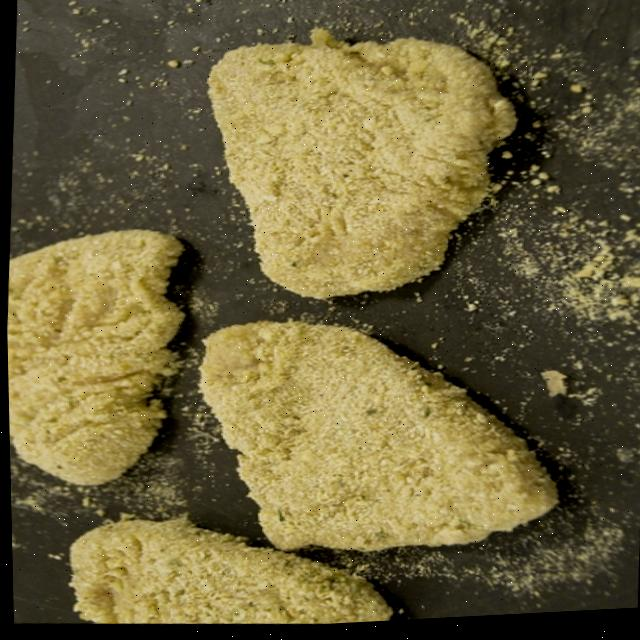鸡肉料理 含炸鸡: (0, 0, 614, 640)
